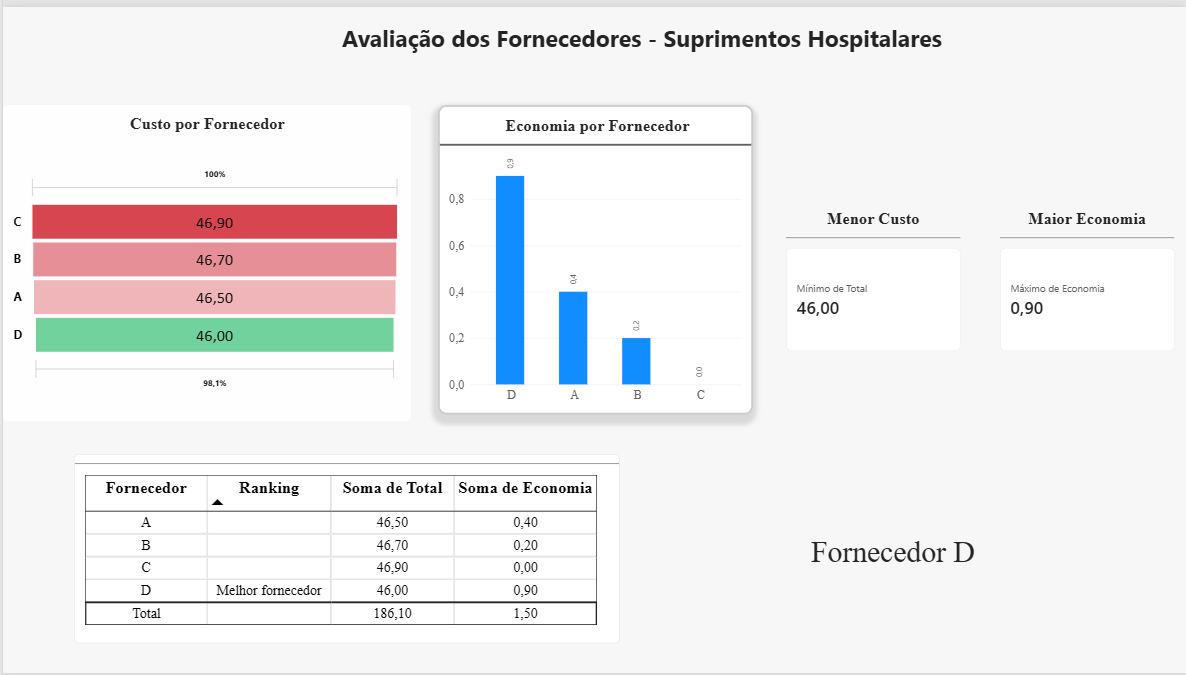

What the dashboard file says about the page in this screenshot:
{"tool":"powerbi","page":{"name":"Página 1","canvas":[1920,1080],"ordinal":0},"visuals":[{"type":"funnel","title":"Custo por Fornecedor","fields":{"Category":["Fornecedor (Suprimentos).Fornecedor"],"Y":["Sum(Fornecedor (Suprimentos).Total)"]},"box":[0,158.3,661,512.6],"z":0},{"type":"columnChart","title":"Economia por Fornecedor","fields":{"Category":["Fornecedor (Suprimentos).Fornecedor"],"Y":["Sum(Fornecedor (Suprimentos).Economia)"]},"box":[705.8,158.3,511.1,502.1],"z":1000},{"type":"tableEx","fields":{"Values":["Fornecedor (Suprimentos).Fornecedor","Fornecedor (Suprimentos).Ranking","Sum(Fornecedor (Suprimentos).Total)","Sum(Fornecedor (Suprimentos).Economia)"]},"box":[115.5,724.4,884.6,307.3],"z":2000},{"type":"cardVisual","title":"Menor Custo","fields":{"Data":["Min(Fornecedor (Suprimentos).Total)"]},"box":[1270.1,327.8,283.1,229.1],"z":3000},{"type":"cardVisual","title":"Maior Economia","fields":{"Data":["Max(Fornecedor (Suprimentos).Economia)"]},"box":[1616.5,327.8,283,229],"z":4000},{"type":"textbox","box":[804.5,0,446.9,111.7],"z":4004},{"type":"textbox","box":[1270.1,856.6,346.4,96.8],"z":4006}]}

Visuals, with their boxes in screenshot pixels (x1, y1, x2, y2), scaled from the page's 1920x1080 canvas onto the 1186x675 screenshot:
"Custo por Fornecedor" funnel: [x1=0, y1=99, x2=408, y2=419]
"Economia por Fornecedor" columnChart: [x1=436, y1=99, x2=752, y2=413]
tableEx - Fornecedor (Suprimentos).Fornecedor x Fornecedor (Suprimentos).Ranking: [x1=71, y1=453, x2=618, y2=645]
"Menor Custo" cardVisual: [x1=785, y1=205, x2=959, y2=348]
"Maior Economia" cardVisual: [x1=999, y1=205, x2=1173, y2=348]
textbox: [x1=497, y1=0, x2=773, y2=70]
textbox: [x1=785, y1=535, x2=999, y2=596]
